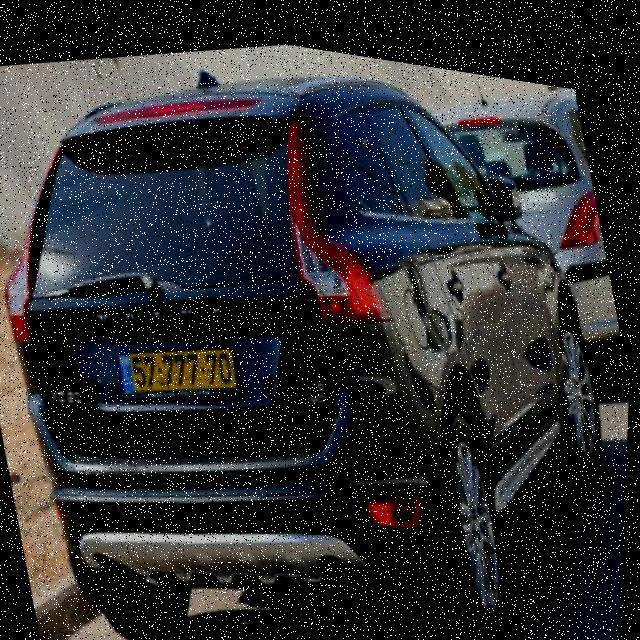license_plate: (118, 320, 246, 414)
